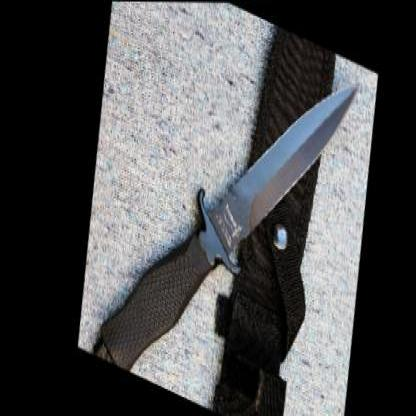knife: (199, 18, 378, 287)
